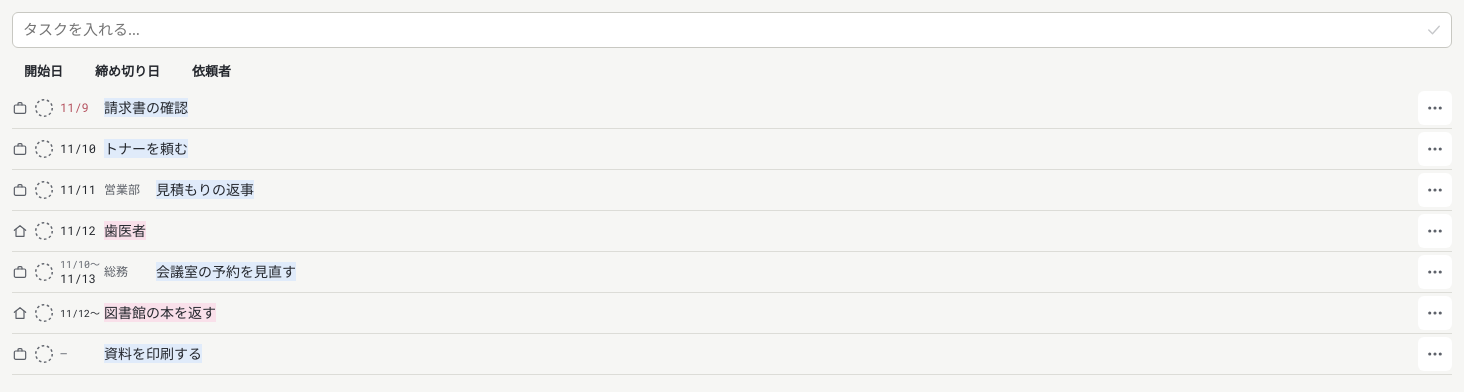
その場で直す（13.3） › 件名を押すとその場の1行の欄（フォーカスは欄）。Enter で保存、空にして離れると元に戻す（S3-TASK-005・132）
The width and height of the screenshot is (1464, 392).
Click the button "見積もりの返事". click: (205, 189)
box: 156,170 -> 1452,210
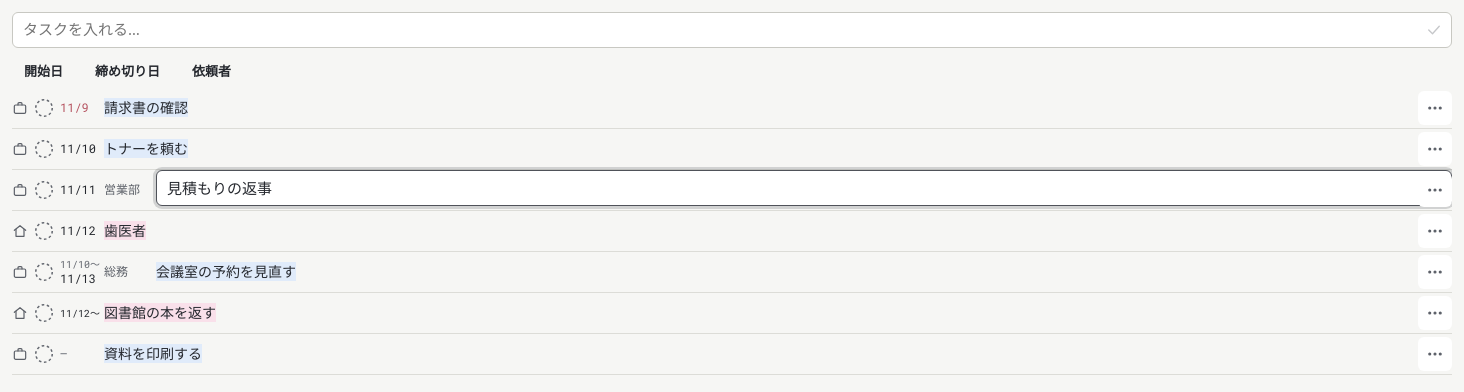
Replace the text in the field named "件名" with "見積もりの返事を出す". click: (804, 188)
box: 156,170 -> 1452,206
Then press Enter
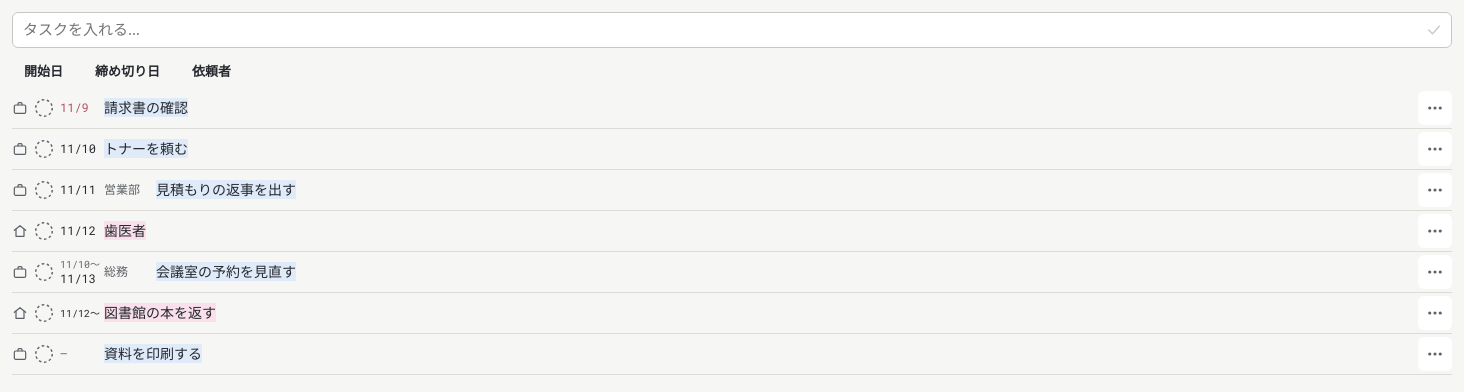
Expected: the text "見積もりの返事を出す" is shown, 156,180 -> 296,199
Click the button "見積もりの返事を出す". click: (226, 189)
box: 156,170 -> 1452,210
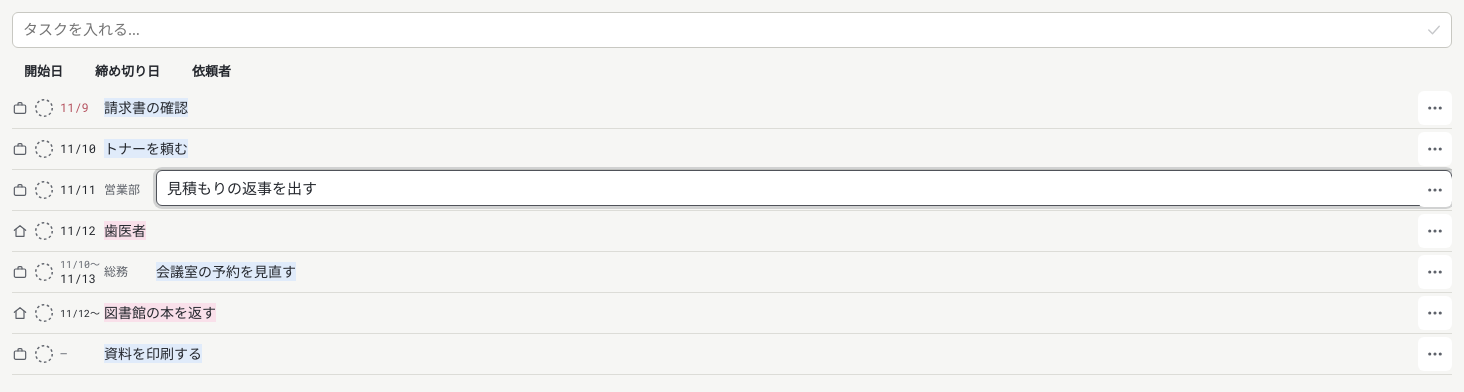
Clear the field named "件名". click: (804, 188)
box: 156,170 -> 1452,206
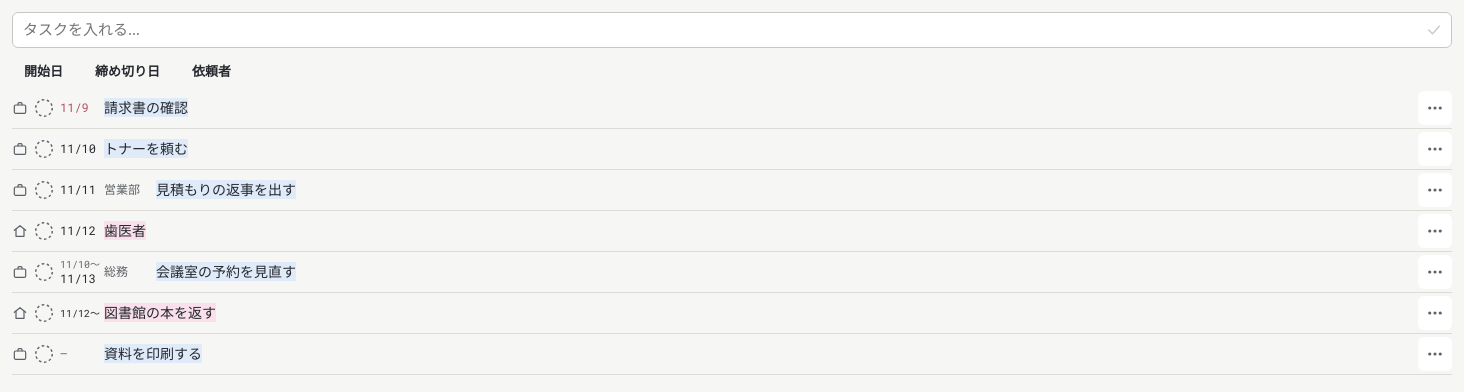
Expected: the text "見積もりの返事を出す" is shown, 156,180 -> 296,199
